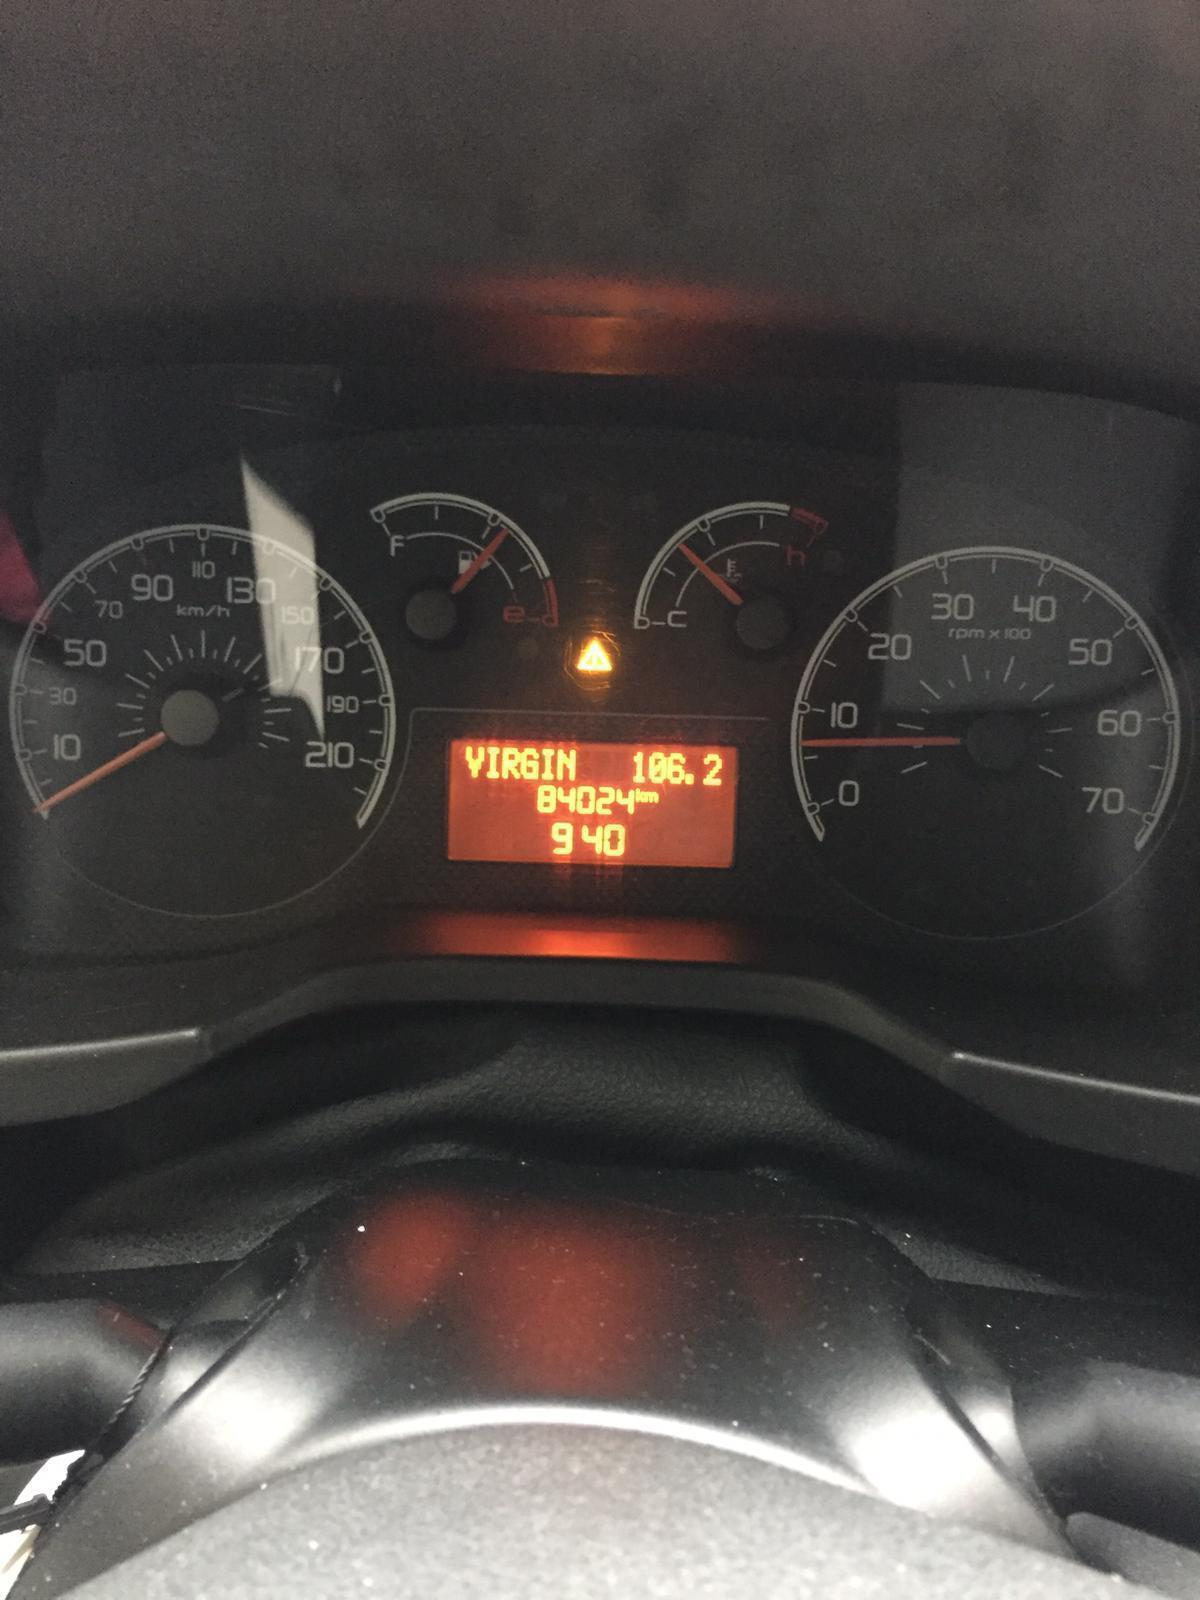,: (684, 770, 697, 786)
0: (603, 821, 626, 858), (575, 782, 597, 816), (645, 748, 666, 784)
2: (702, 751, 724, 787), (597, 784, 615, 816)
4: (579, 821, 603, 855), (556, 784, 575, 813), (615, 787, 634, 816)
6: (668, 750, 684, 787)
8: (536, 782, 556, 815)
9: (550, 820, 574, 858)
X: (556, 745, 579, 780), (500, 745, 521, 784), (463, 742, 483, 779), (521, 743, 538, 782), (539, 746, 555, 782), (485, 743, 500, 779), (644, 790, 661, 803), (634, 787, 644, 803)
odometer: (445, 732, 737, 871)
